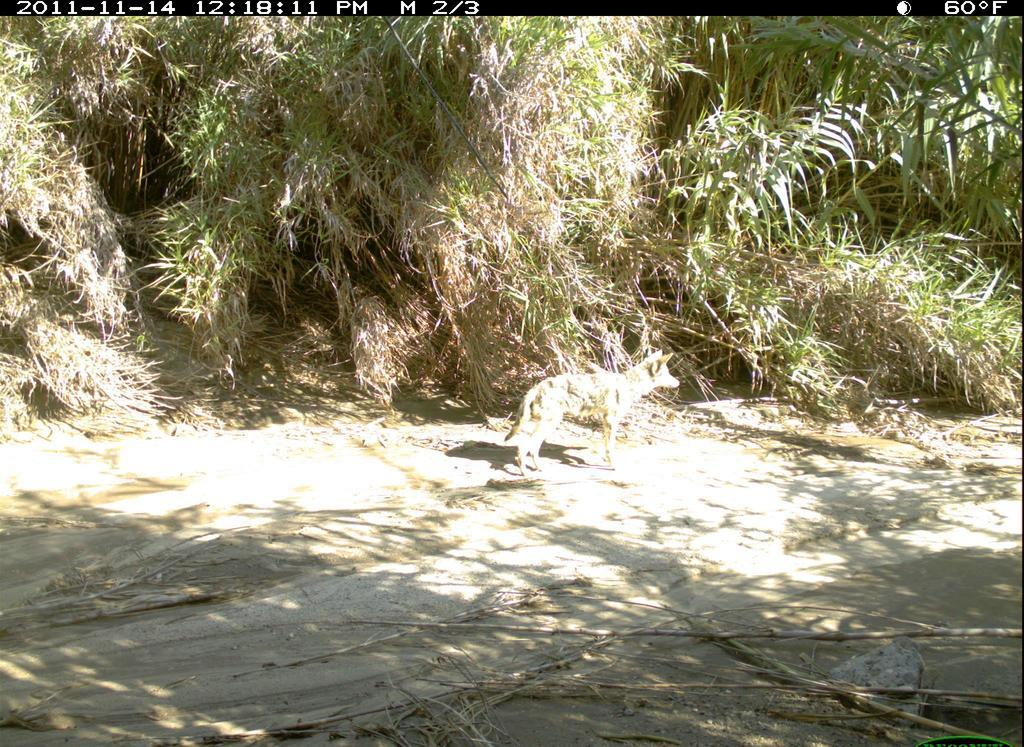coyote: (500, 346, 685, 478)
